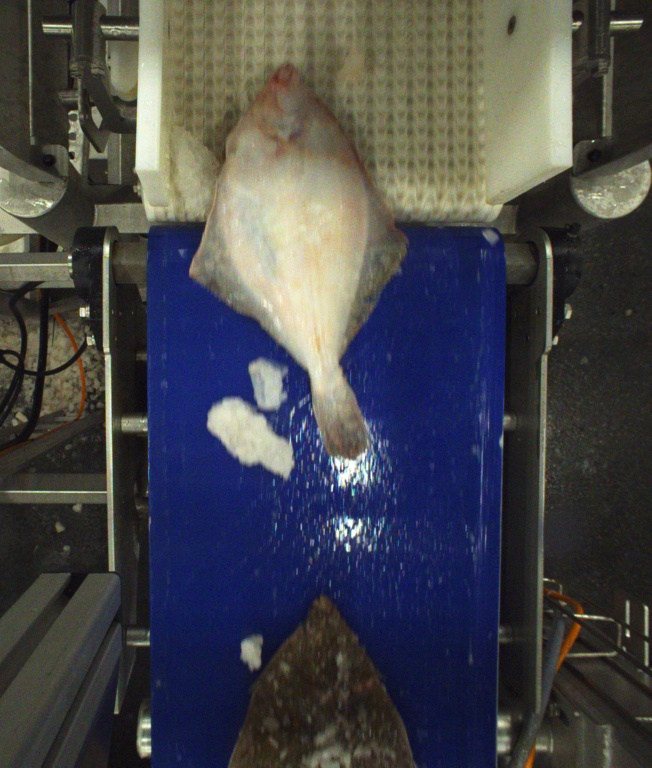PLE: (188, 62, 408, 459)
